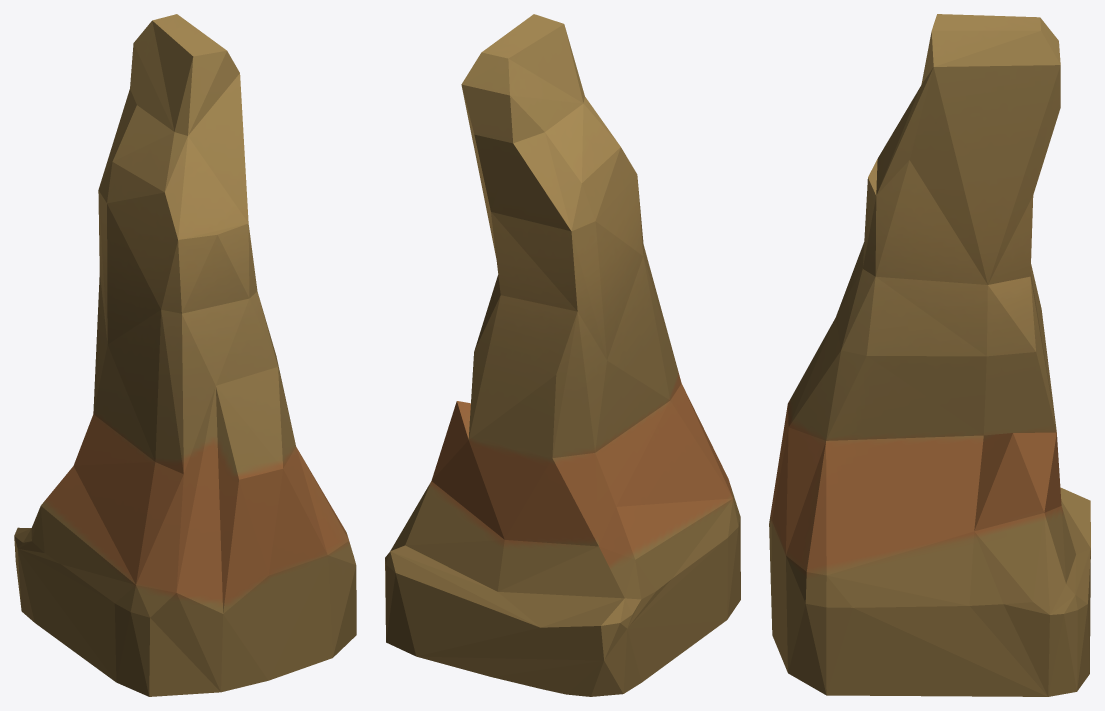
File: Rock 2.fbx
3 views of the same model, side by side, from view 1: azimuth 30°, elevation 25°; view 2: azimuth 150°, elevation 25°; view 3: azimuth 270°, elevation 25° (orthographic). The views are drawn at different scales.
Parts seen in each view (by area): view 1: Canyon_Rock1; view 2: Canyon_Rock1; view 3: Canyon_Rock1.
Boxes of the visible parts, left/top/right/bottom form: Canyon_Rock1: left=14, top=14, right=356, bottom=696; Canyon_Rock1: left=385, top=14, right=740, bottom=696; Canyon_Rock1: left=769, top=14, right=1090, bottom=696.
Size of the model in its own units: 24.56 by 57.37 by 26.8.
1 material, 1 textured.
